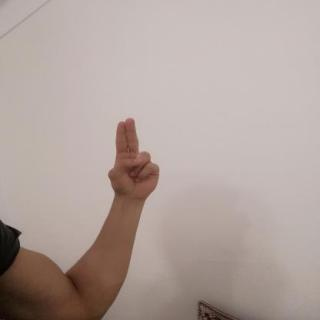TA: (98, 110, 169, 202)
